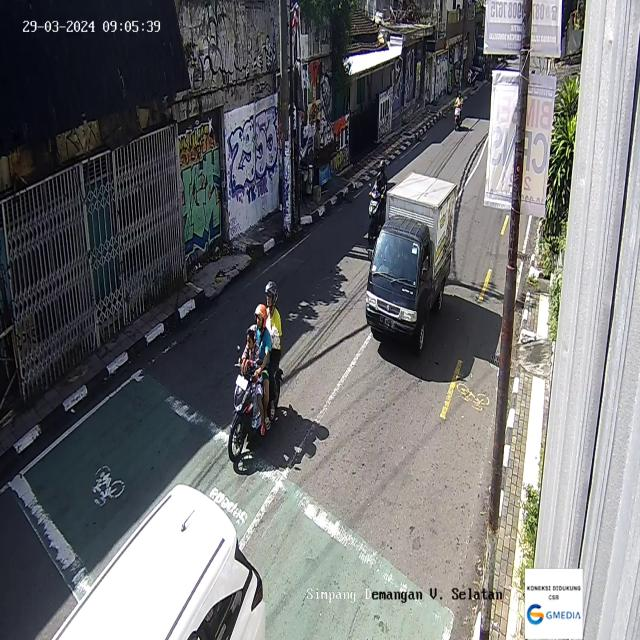car: (52, 483, 266, 639)
motorcycle: (228, 280, 288, 462), (367, 159, 388, 245), (453, 90, 463, 131)
truck: (365, 170, 457, 351)
